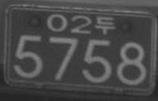0: (45, 12, 68, 32)
2: (70, 14, 92, 35)
5: (81, 39, 112, 83), (13, 34, 43, 78)
7: (49, 35, 78, 81)
8: (116, 41, 147, 86)
두: (94, 15, 115, 35)
